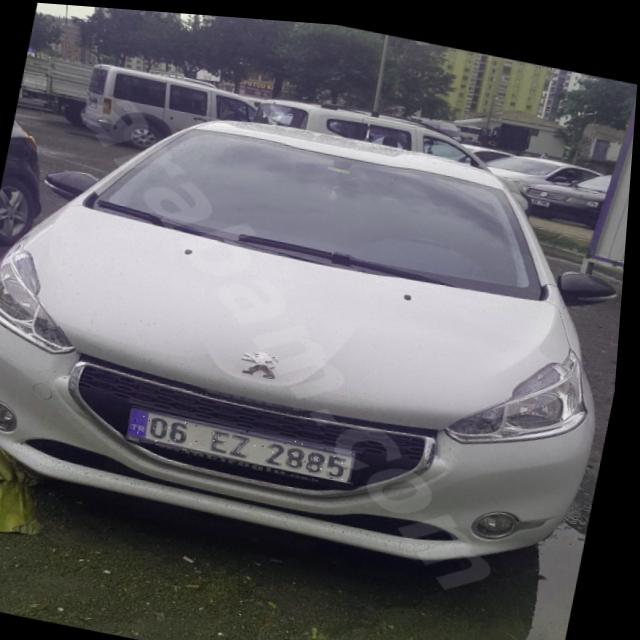license_plate: (131, 404, 366, 478)
